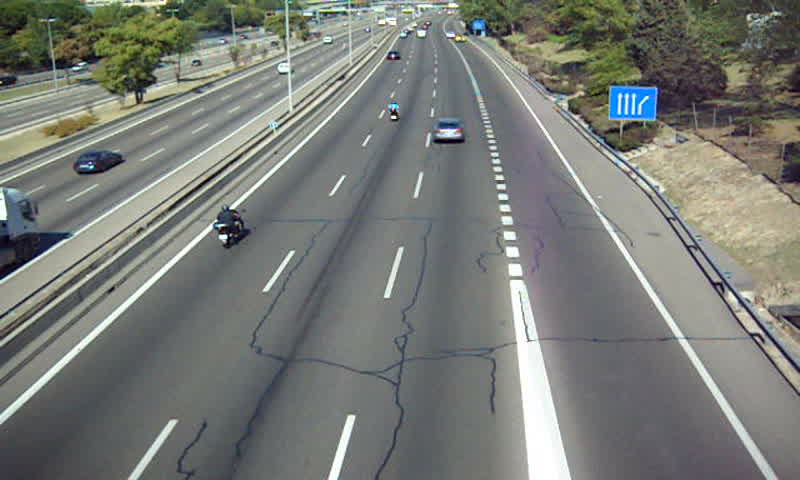car: (431, 118, 464, 142), (385, 50, 400, 62)
motorcycle: (212, 204, 244, 246), (388, 101, 402, 123)
